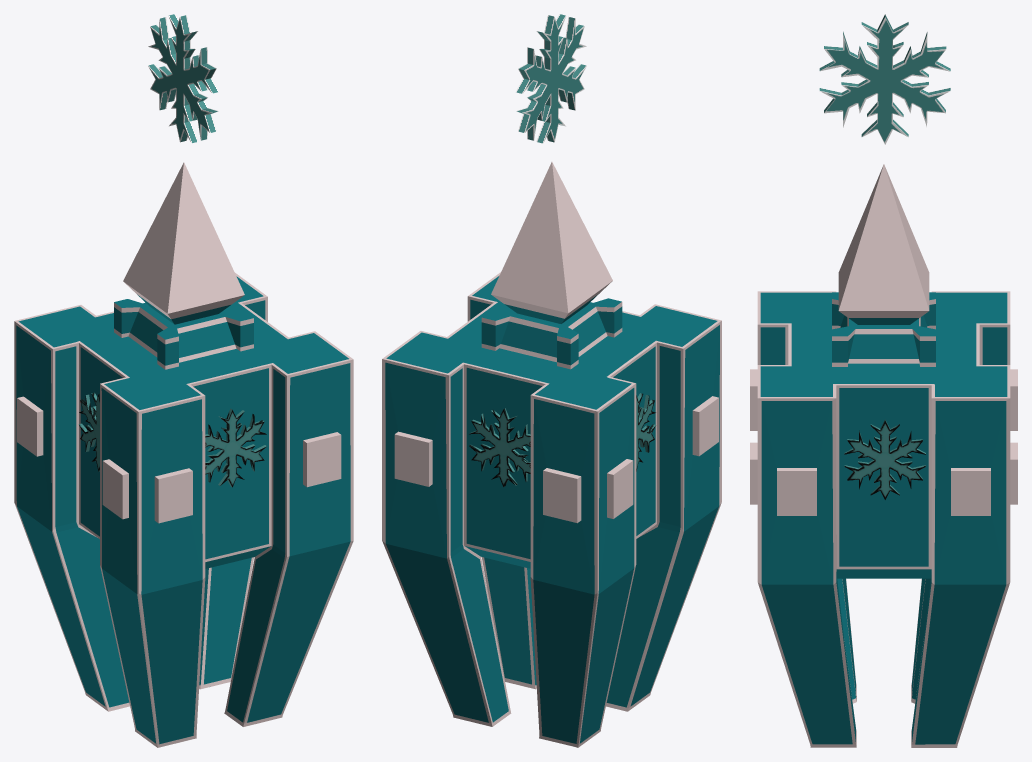
Rendered from IceTower.fbx.
The picture shows the model from 3 angles, left to right: view 1: azimuth 30°, elevation 25°; view 2: azimuth 150°, elevation 25°; view 3: azimuth 270°, elevation 25°; orthographic projection.
Parts seen in each view (by area): view 1: Tower, snieg; view 2: Tower, snieg; view 3: Tower, snieg.
Boxes of the visible parts, x1,y1,x2,y2 form: Tower: (14, 162, 353, 747); snieg: (148, 14, 218, 143); Tower: (382, 162, 721, 747); snieg: (516, 14, 586, 143); Tower: (750, 164, 1017, 747); snieg: (819, 14, 950, 144).
Bounding box in the file's own units: 1745 × 5040 × 1745.
